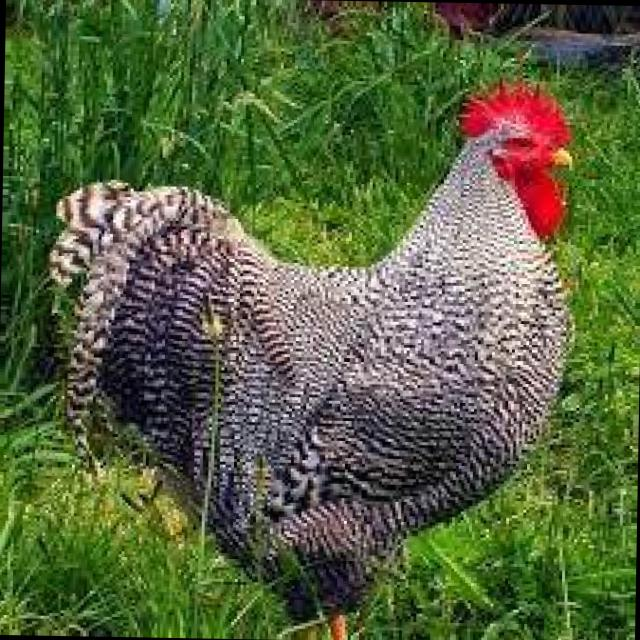chicken: (40, 67, 585, 640)
